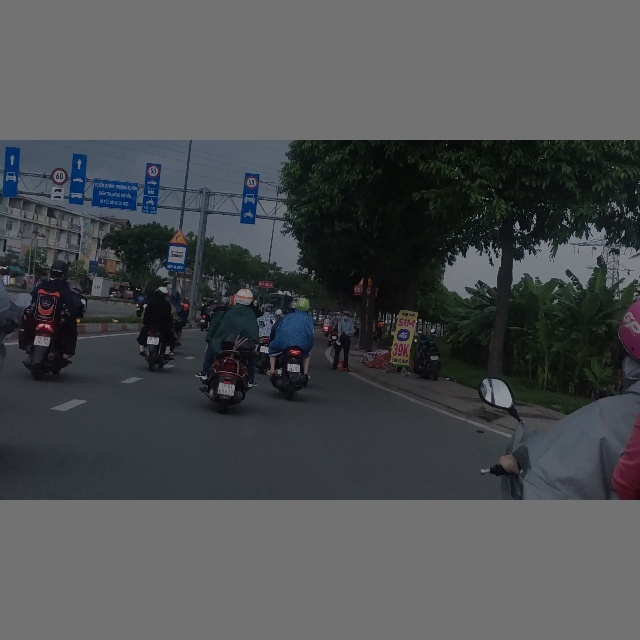I.434a: (166, 244, 187, 271)
P.127*50: (146, 164, 160, 178), (245, 176, 258, 189)
P.127*60: (50, 168, 68, 185)
S.505a*Xe tai va cong: (50, 186, 64, 201)
W.201b: (169, 228, 188, 245)
